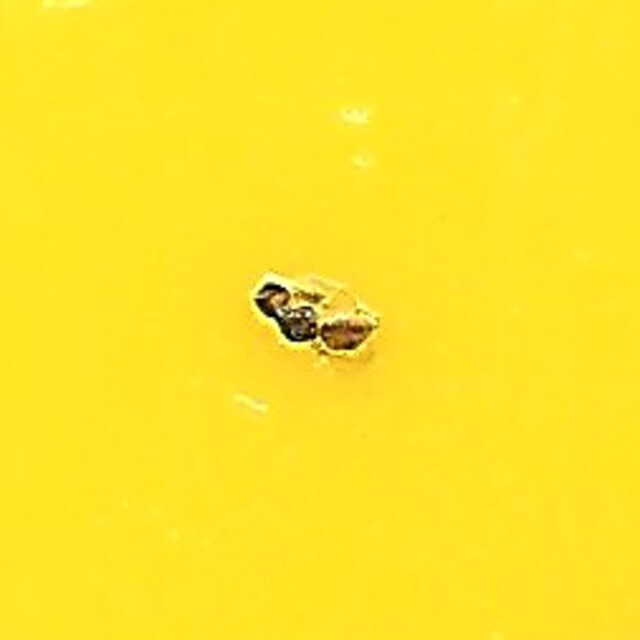Hymenoptera: (253, 271, 387, 369)
